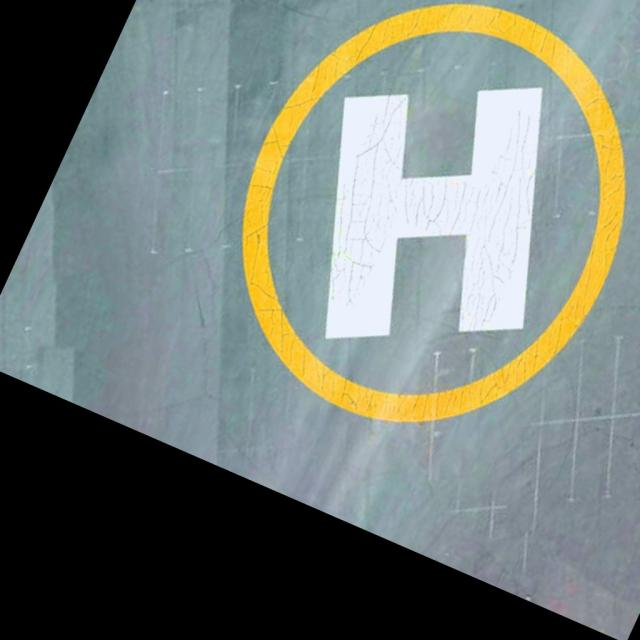helipad: (231, 0, 633, 429)
